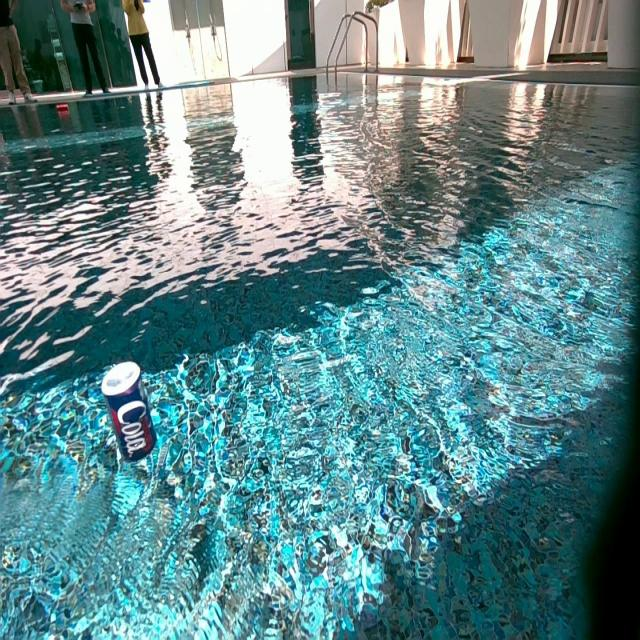Cans: (105, 362, 159, 464), (57, 105, 71, 118)
